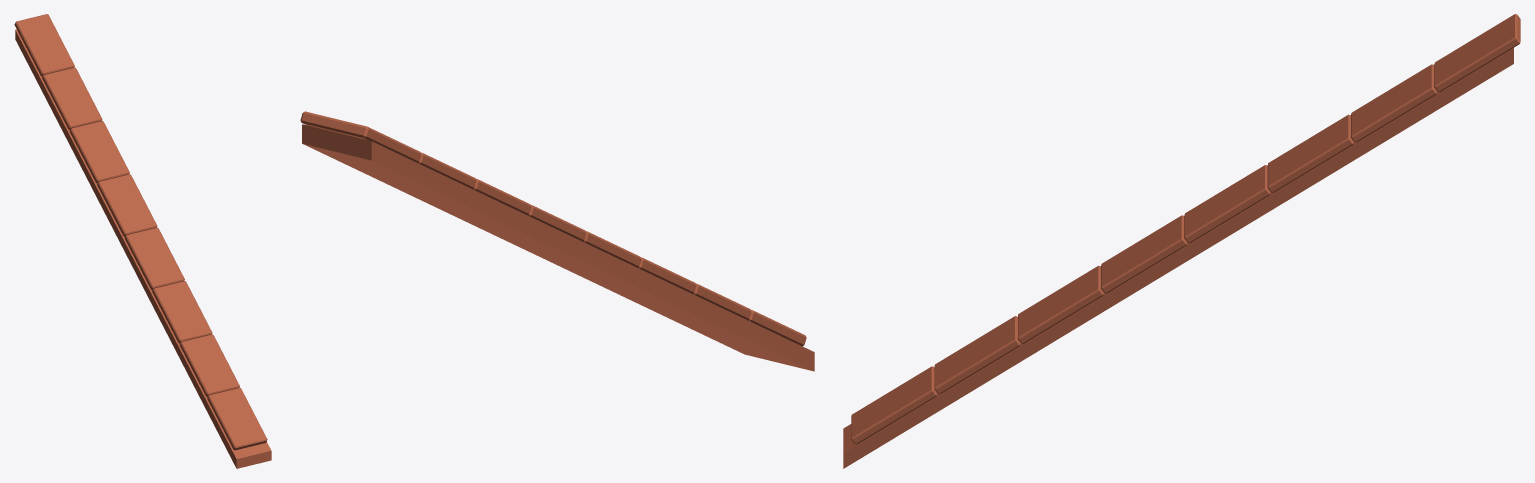
Rendered from SM_WL_RoofPanelEnd30cm.fbx.
The picture shows the model from 3 angles, left to right: view 1: azimuth 30°, elevation 25°; view 2: azimuth 150°, elevation 25°; view 3: azimuth 270°, elevation 25°; orthographic projection. The views are drawn at different scales.
Parts seen in each view (by area): view 1: SM_WL_RoofPanelEnd30cm; view 2: SM_WL_RoofPanelEnd30cm; view 3: SM_WL_RoofPanelEnd30cm.
Boxes of the visible parts, left/top/right/bottom form: SM_WL_RoofPanelEnd30cm: left=14, top=14, right=271, bottom=468; SM_WL_RoofPanelEnd30cm: left=300, top=111, right=814, bottom=371; SM_WL_RoofPanelEnd30cm: left=843, top=14, right=1520, bottom=468.
Bounding box in the file's own units: 3.33 × 0.3 × 2.34.
